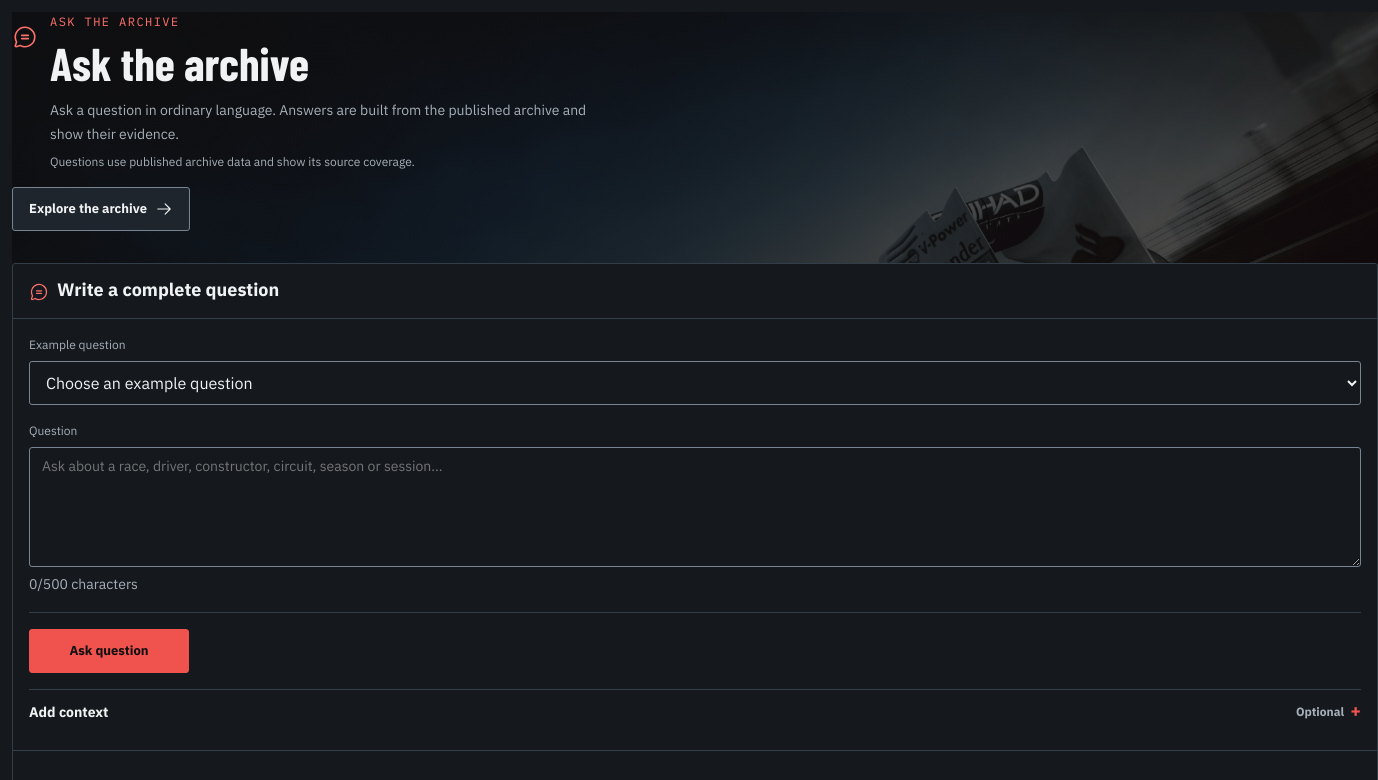
Scenario: failed answers show a concrete rewording suggestion
Type "What is the archive's favourite colour?" into the text box labelled "Question" at (695,507), box [29,447,1361,567]
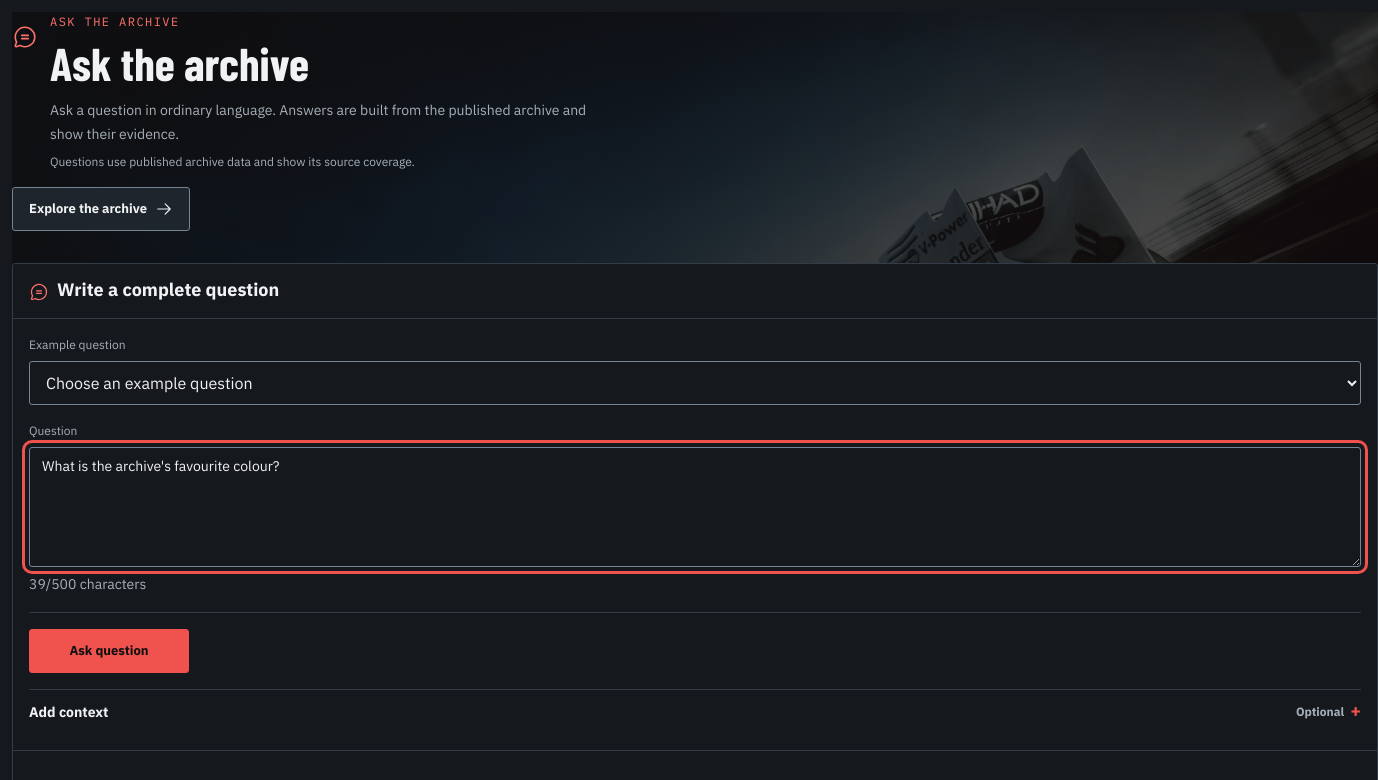
Click the button "Ask question" at (109,651), box [29,629,189,673]
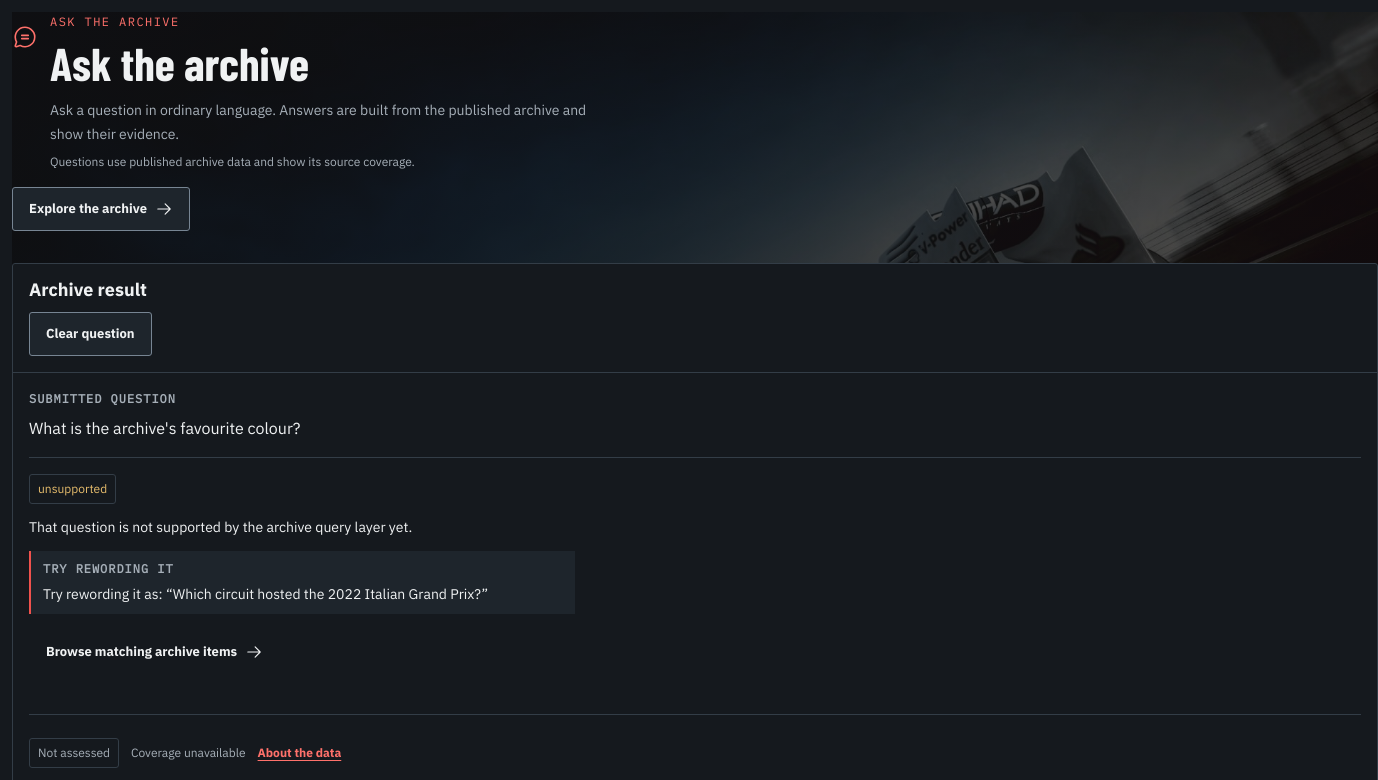
Expected: the text "Try rewording it" is shown, [43,561,174,576]
Expected: the text "Try rewording it as: “Which circuit hosted the 2022 Italian Grand Prix?”" is shown, [43,583,563,606]
